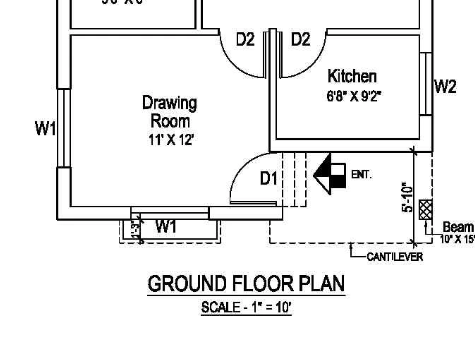door: (212, 17, 267, 86), (276, 19, 328, 83)
window: (119, 195, 216, 232), (410, 45, 444, 123), (50, 84, 78, 176)
